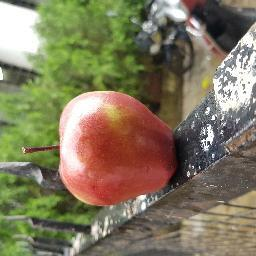Good_apple: (62, 91, 177, 202)
